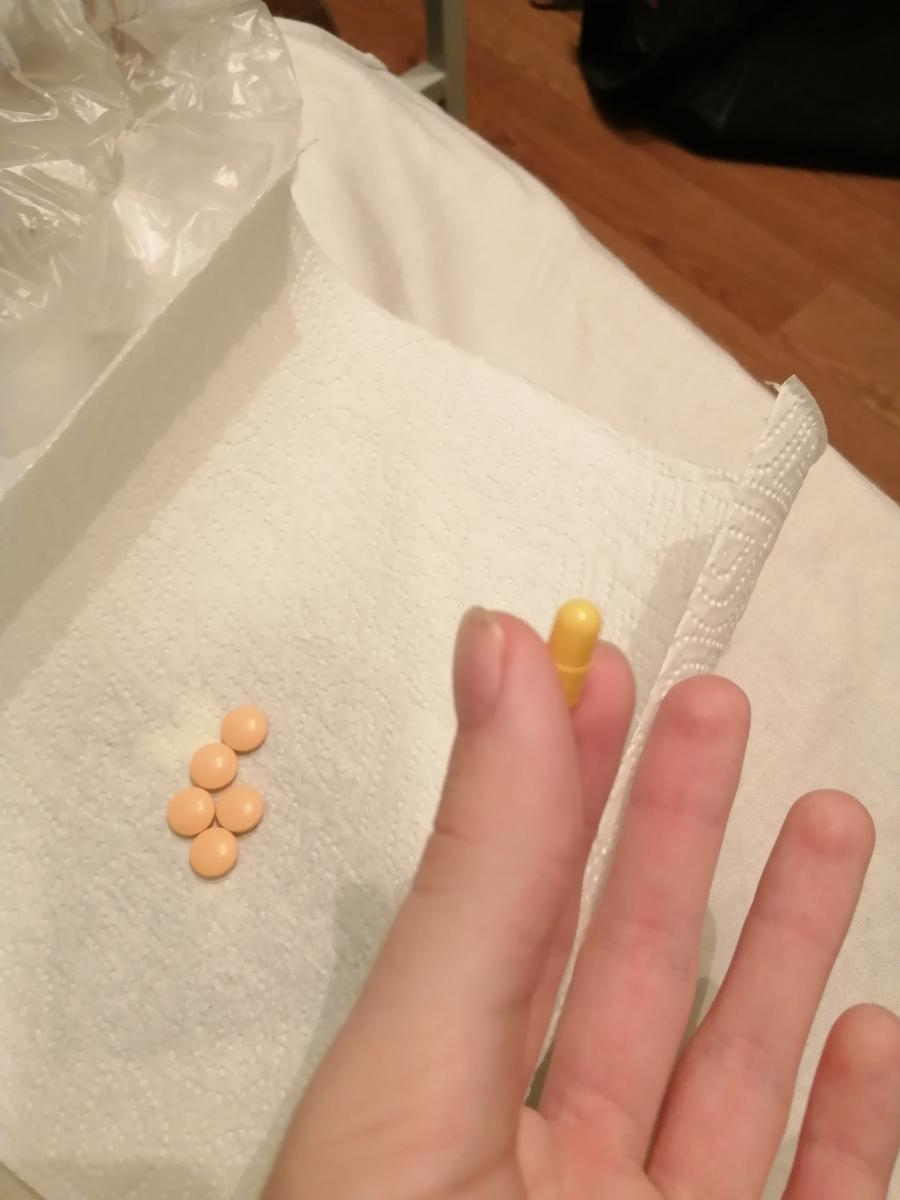capsule: (548, 600, 604, 714)
tablet: (220, 701, 270, 753), (190, 826, 240, 877), (165, 786, 212, 840), (189, 742, 238, 793), (215, 783, 263, 832)
